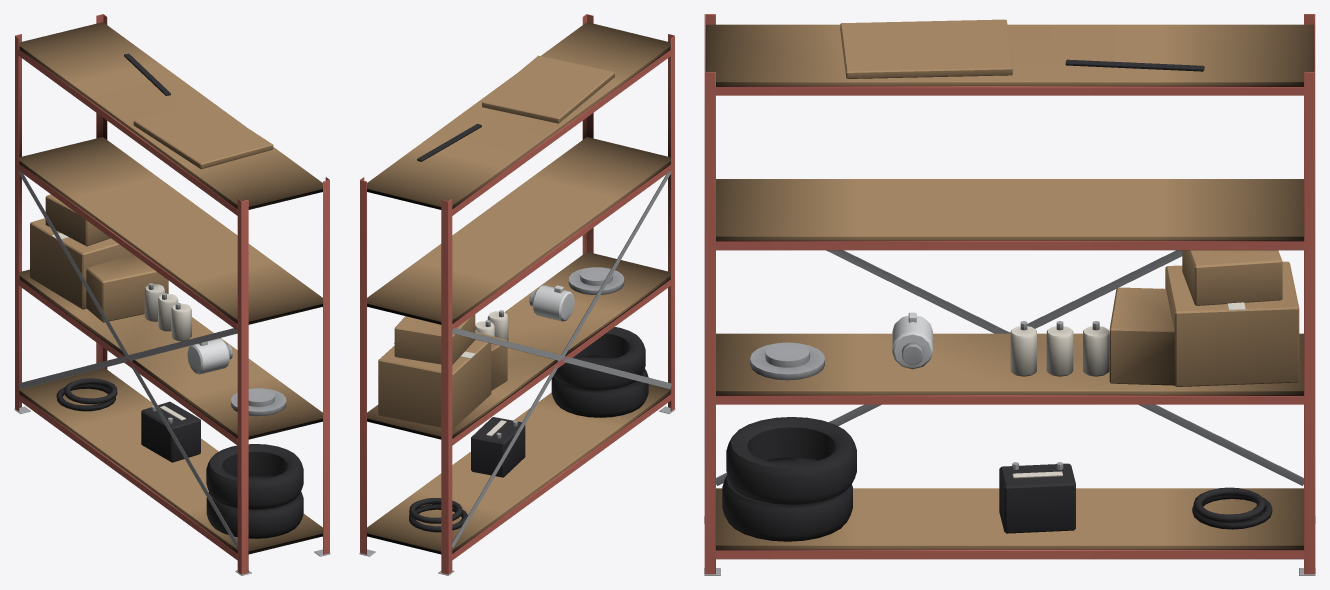
File: shelf_garage_s.glb
3 views of the same model, side by side, from view 1: azimuth 30°, elevation 25°; view 2: azimuth 150°, elevation 25°; view 3: azimuth 270°, elevation 25° (orthographic). The views are drawn at different scales.
Parts seen in each view (by area): view 1: PART; view 2: PART; view 3: PART.
Part boxes in pixels (left/top/right/bottom): PART: left=14, top=14, right=330, bottom=575; PART: left=359, top=14, right=675, bottom=575; PART: left=704, top=14, right=1315, bottom=575.
Bounding box in the file's own units: 0.5 × 2 × 2.2.
